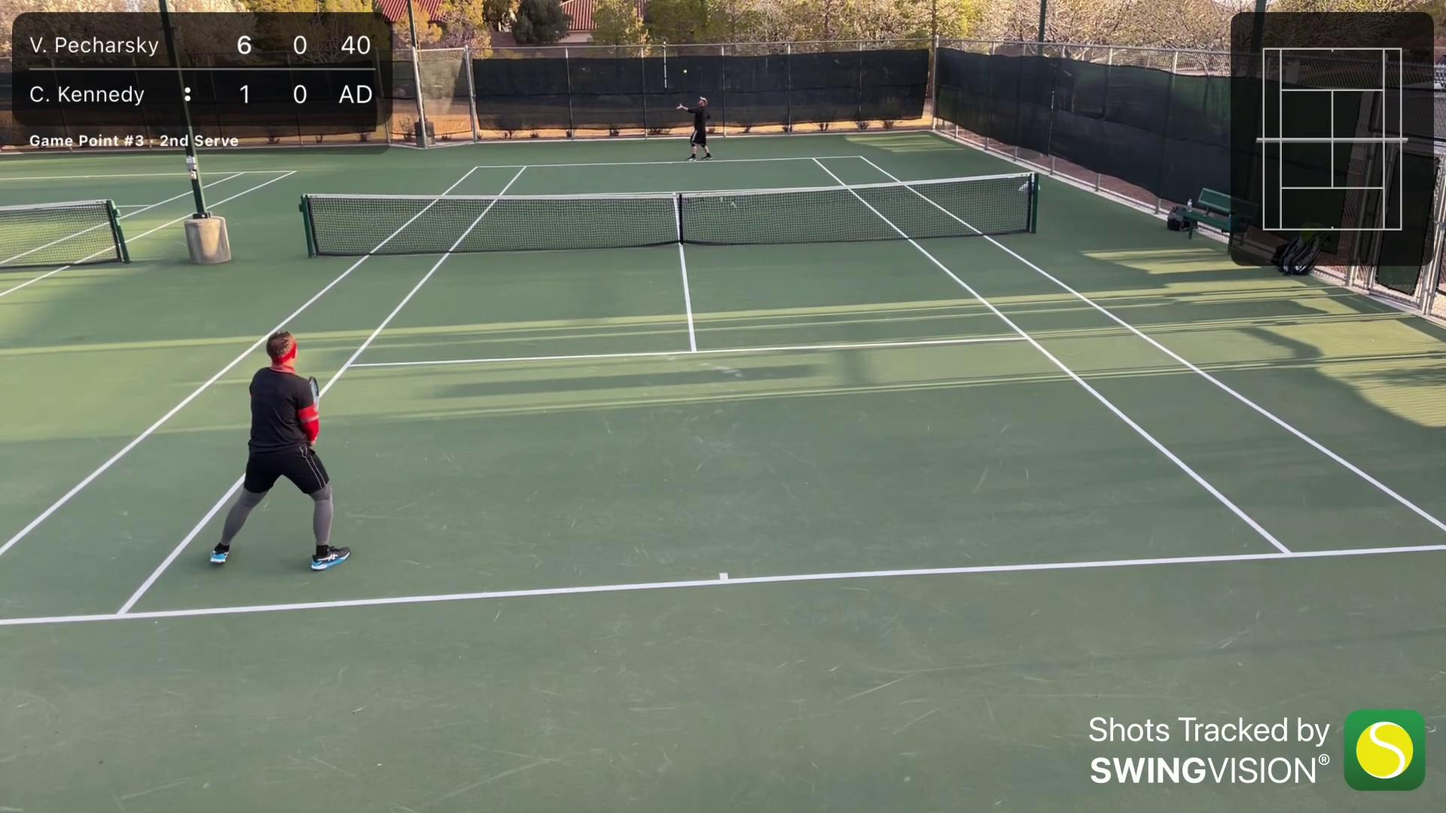ball: (209, 376, 219, 384), (683, 69, 688, 74)
